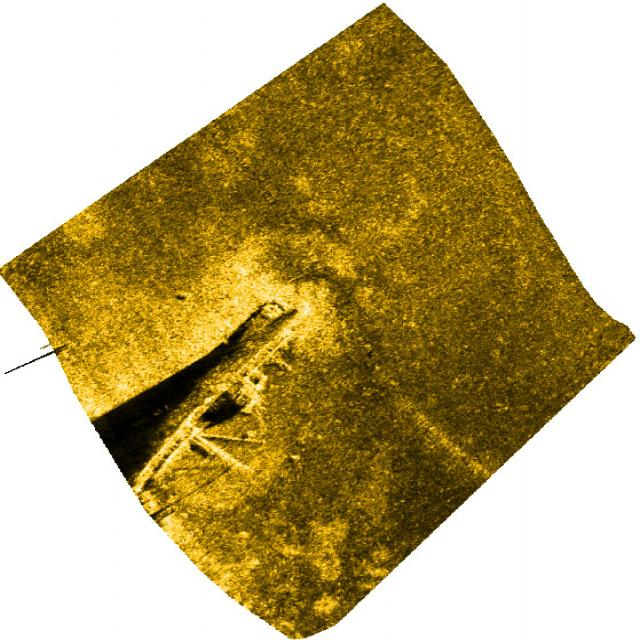ship: (130, 284, 310, 508)
